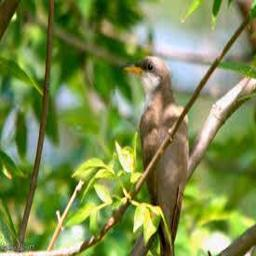Cuckoo: (121, 56, 189, 256)
